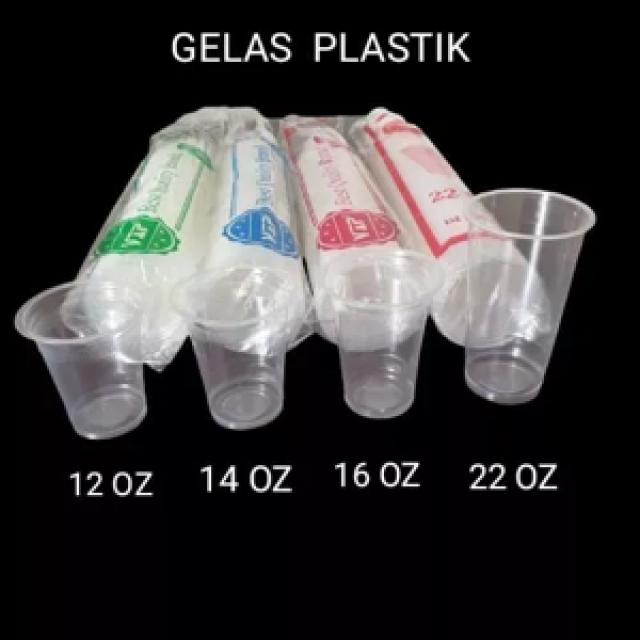plastic cup: (459, 181, 593, 414), (11, 275, 156, 444), (164, 265, 307, 433), (320, 246, 446, 424)
